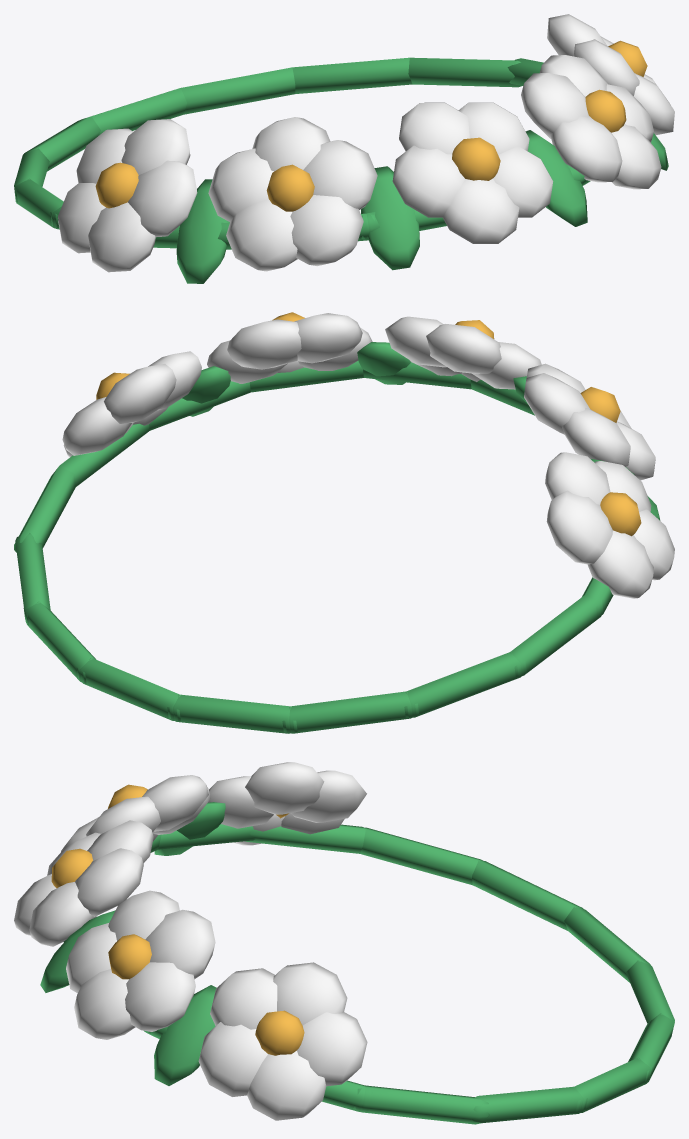
Rendered from flower_crown.glb.
The picture shows the model from 3 angles, top to bottom: view 1: azimuth 30°, elevation 25°; view 2: azimuth 150°, elevation 25°; view 3: azimuth 270°, elevation 25°; orthographic projection.
Parts seen in each view (by area): view 1: flower_crown; view 2: flower_crown; view 3: flower_crown.
Boxes of the visible parts, box(x1,y1,x2,y2) form: flower_crown: box(14, 14, 674, 283); flower_crown: box(14, 312, 674, 733); flower_crown: box(14, 762, 674, 1124).
Size of the model in its own units: 0.9352 by 0.3103 by 0.9084.
